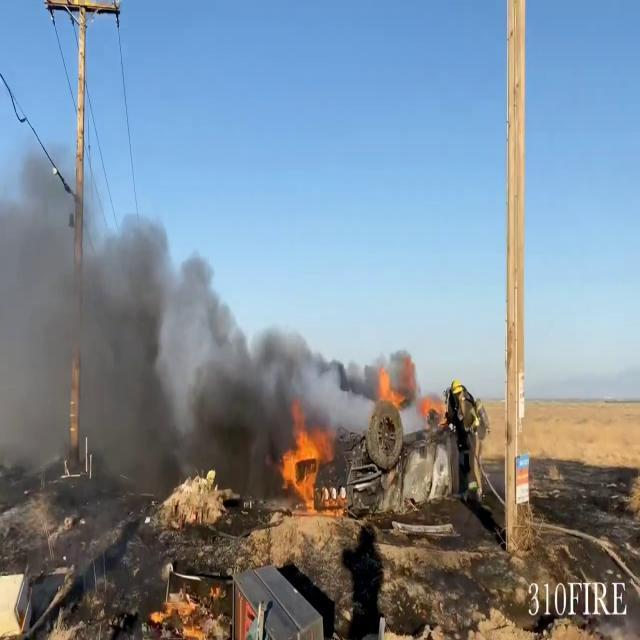Fire: (276, 415, 338, 515), (374, 355, 404, 413)
Smoke: (0, 169, 350, 503)
